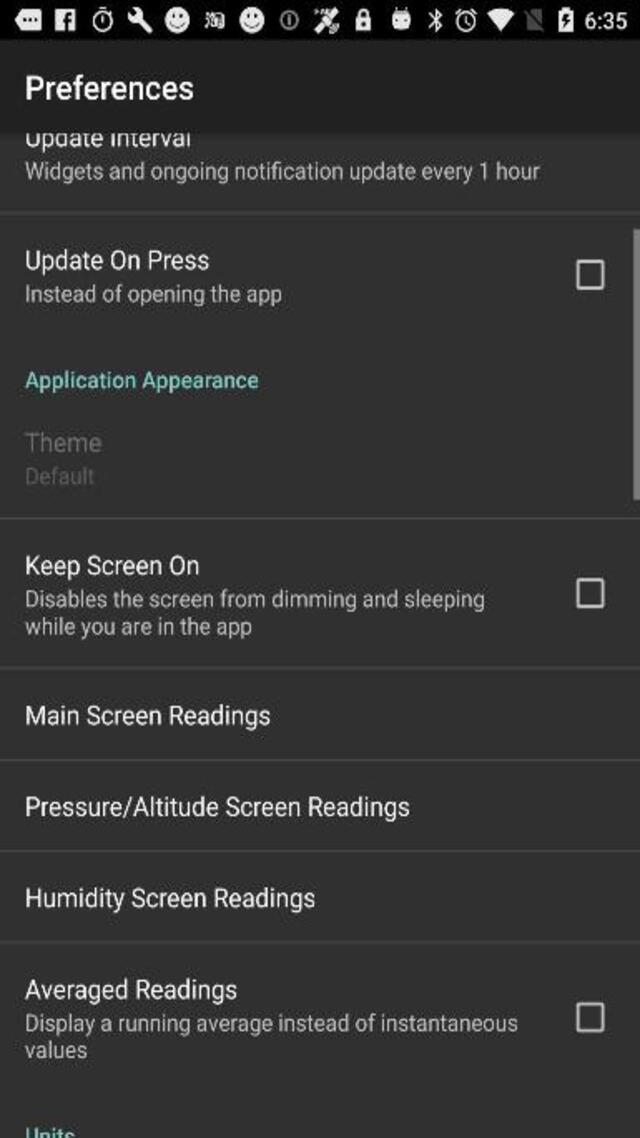CheckedTextView: (575, 1001, 605, 1033), (575, 576, 605, 608), (575, 258, 605, 290)
Text: (23, 1010, 520, 1037), (22, 161, 543, 184), (23, 795, 412, 824), (21, 588, 489, 612), (23, 885, 318, 916), (24, 702, 272, 732), (18, 283, 284, 310), (23, 615, 255, 644), (24, 368, 264, 394), (24, 71, 195, 106), (24, 978, 240, 1005), (22, 250, 212, 276), (23, 553, 202, 579), (23, 129, 195, 151), (21, 431, 106, 458), (24, 1038, 91, 1064), (22, 466, 98, 486)
WS3: (17, 1123, 81, 1138)
